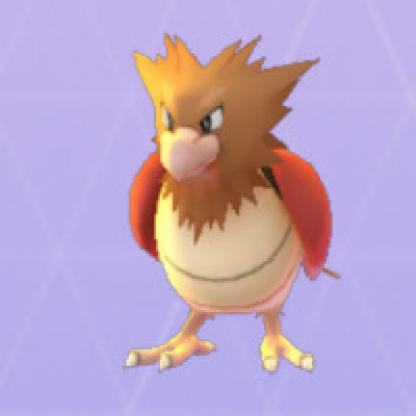Spearow: (116, 28, 347, 390)
